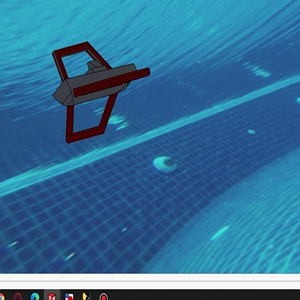submarine: (52, 41, 151, 146)
